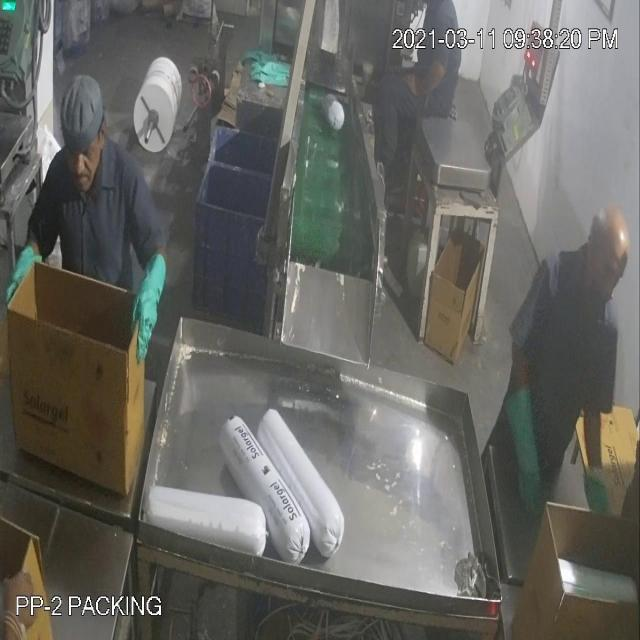Gloves: (48, 52, 525, 450)
